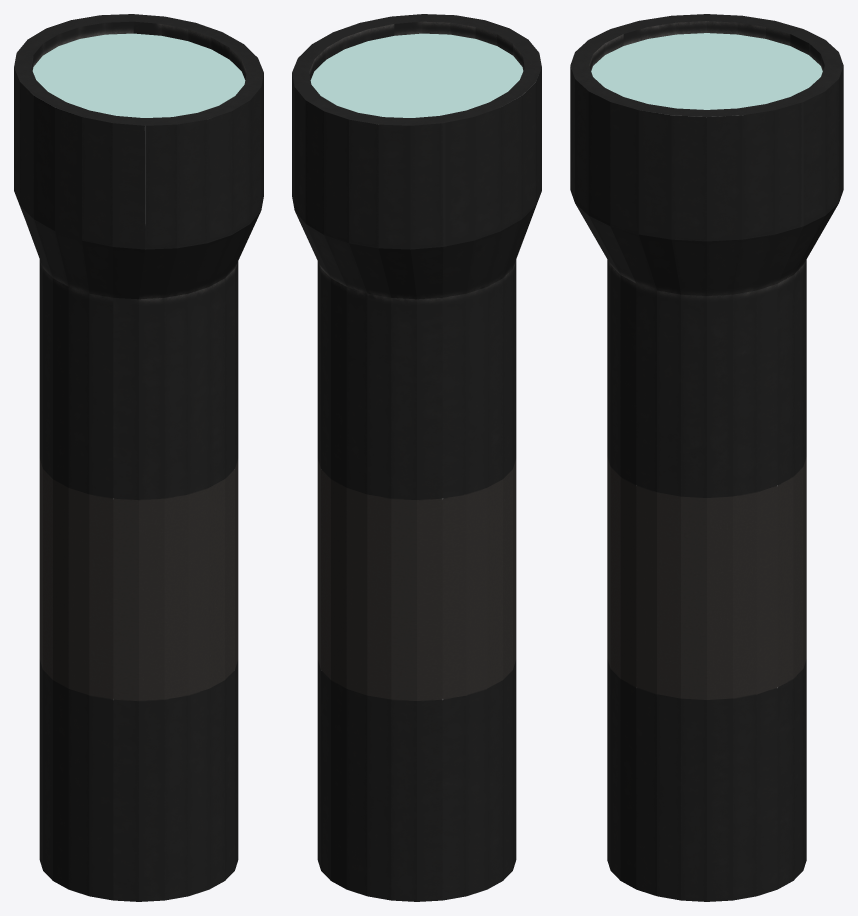
File: flashlight.fbx
3 views of the same model, side by side, from view 1: azimuth 30°, elevation 25°; view 2: azimuth 150°, elevation 25°; view 3: azimuth 270°, elevation 25° (orthographic).
Visible parts, largest first — view 1: Flashlight; view 2: Flashlight; view 3: Flashlight.
Part boxes in pixels (x1,y1,x2,y2): Flashlight: (14, 14, 263, 901); Flashlight: (292, 14, 541, 901); Flashlight: (570, 14, 843, 901).
Bounding box in the file's own units: 2.44 × 8.78 × 2.74.
1 material, 1 textured.
